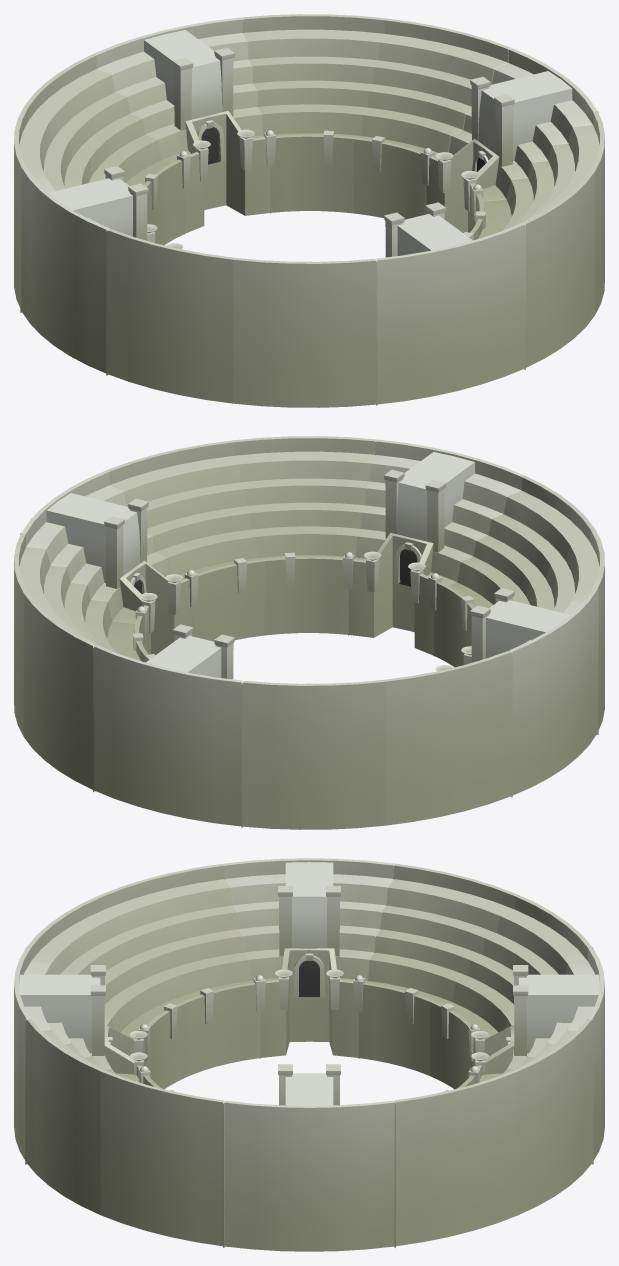
Rendered from SM_Stairs_01.fbx.
The picture shows the model from 3 angles, top to bottom: view 1: azimuth 30°, elevation 25°; view 2: azimuth 150°, elevation 25°; view 3: azimuth 270°, elevation 25°; orthographic projection.
Visible parts, largest first — view 1: SM_Stairs_01; view 2: SM_Stairs_01; view 3: SM_Stairs_01.
Part boxes in pixels (left/top/right/bottom): SM_Stairs_01: left=14, top=14, right=604, bottom=407; SM_Stairs_01: left=14, top=436, right=604, bottom=829; SM_Stairs_01: left=14, top=858, right=604, bottom=1251.
Bounding box in the file's own units: 4747 × 1330 × 4747.
1 material, 1 textured.
